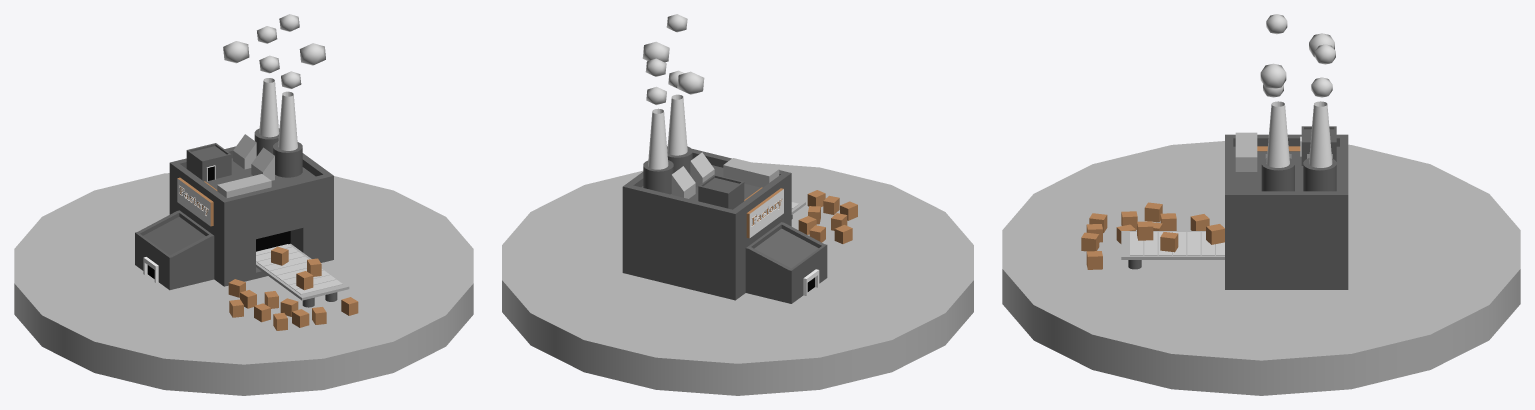
Rendered from Factory_1266.gltf.
3 views of the same model, side by side, from view 1: azimuth 30°, elevation 25°; view 2: azimuth 150°, elevation 25°; view 3: azimuth 270°, elevation 25° (orthographic). The views are drawn at different scales.
Parts seen in each view (by area): view 1: node-0; view 2: node-0; view 3: node-0.
Boxes of the visible parts, x1,y1,x2,y2 form: node-0: [14, 14, 473, 395]; node-0: [502, 14, 973, 395]; node-0: [1002, 14, 1520, 395].
Bounding box in the file's own units: 157 × 98.83 × 155.
